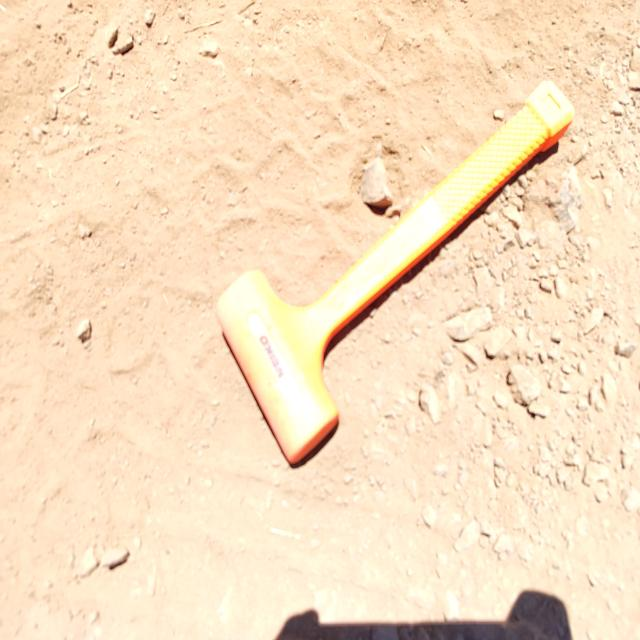Orange_hammer: (215, 78, 575, 468)
